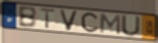B: (17, 6, 37, 29)
C: (80, 12, 99, 34)
M: (99, 13, 122, 36)
T: (39, 8, 57, 30)
U: (120, 15, 142, 38)
V: (58, 9, 80, 32)
